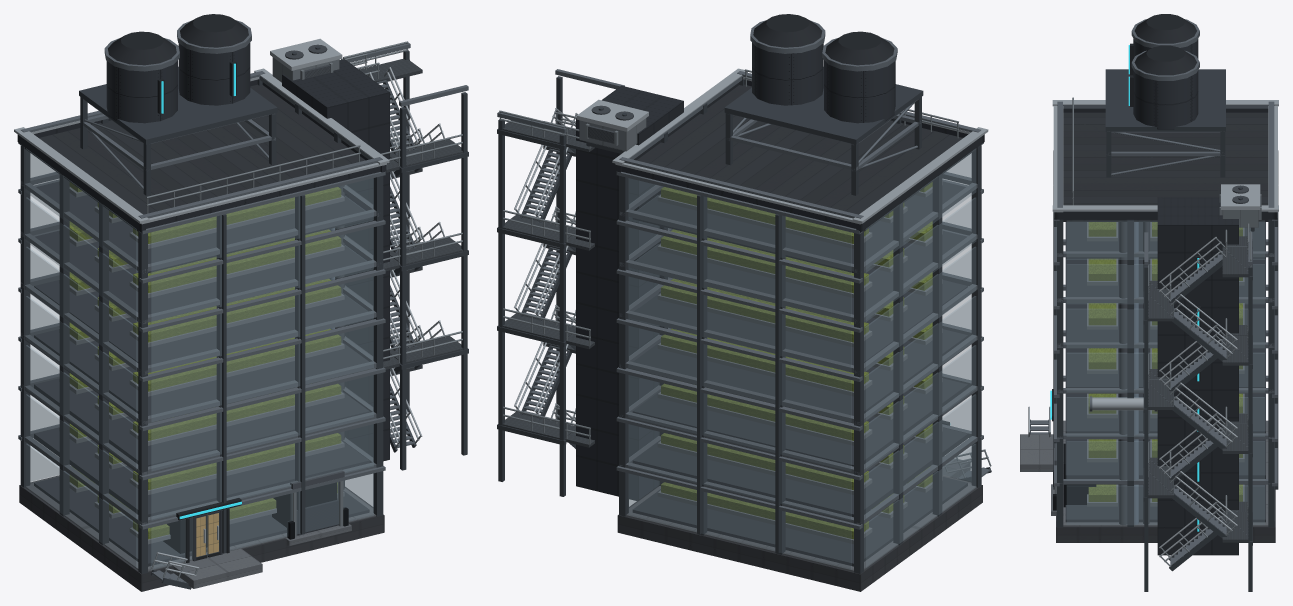
The model's file is civic-cyberpunk-vertical-farm-built.glb.
3 renders of one model, left to right at view 1: azimuth 30°, elevation 25°; view 2: azimuth 150°, elevation 25°; view 3: azimuth 270°, elevation 25°, orthographic. The views are drawn at different scales.
Bounding box in the file's own units: 24.22 × 29.95 × 15.91.
Materials: 28 (16 with a texture image).
